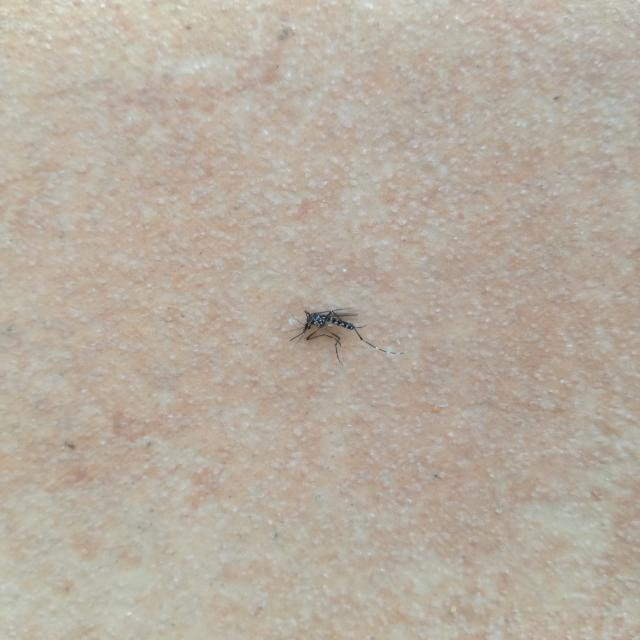albopictus: (282, 300, 404, 368)
